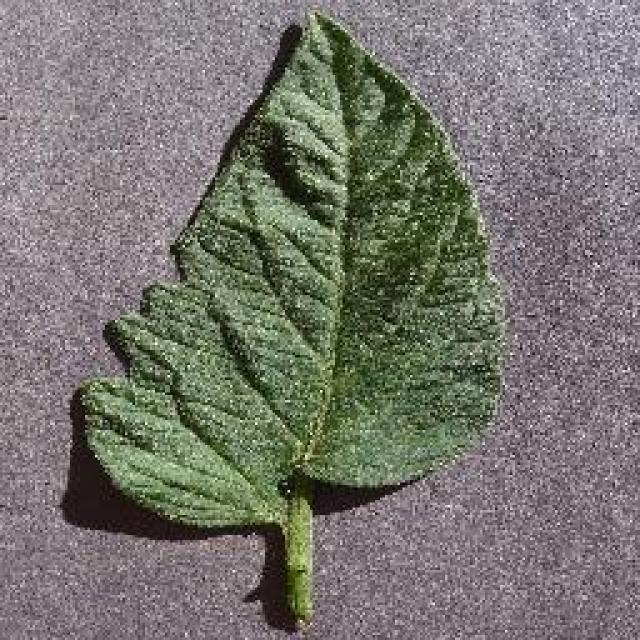Tomato healthy leaf: (91, 10, 501, 615)
